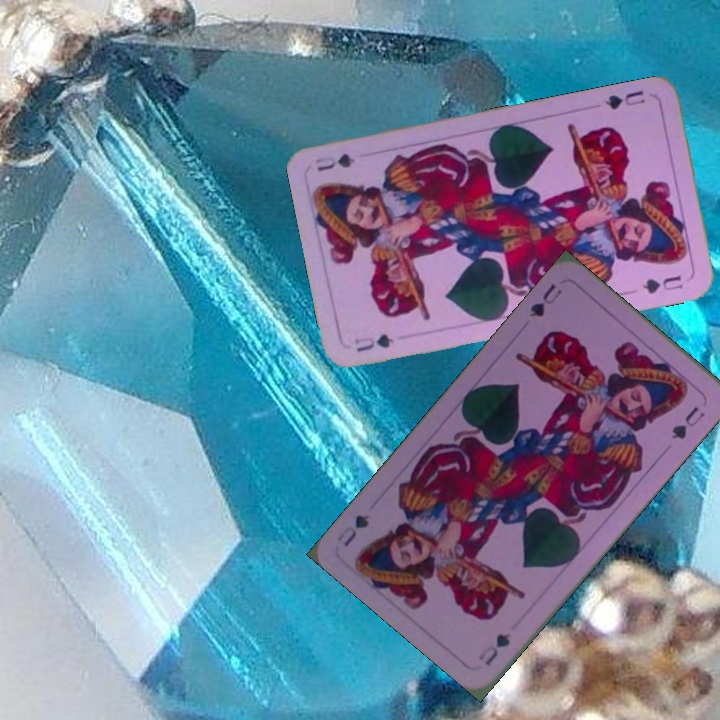GU: (525, 279, 565, 320), (474, 629, 514, 669), (601, 86, 648, 112), (350, 330, 397, 355)
